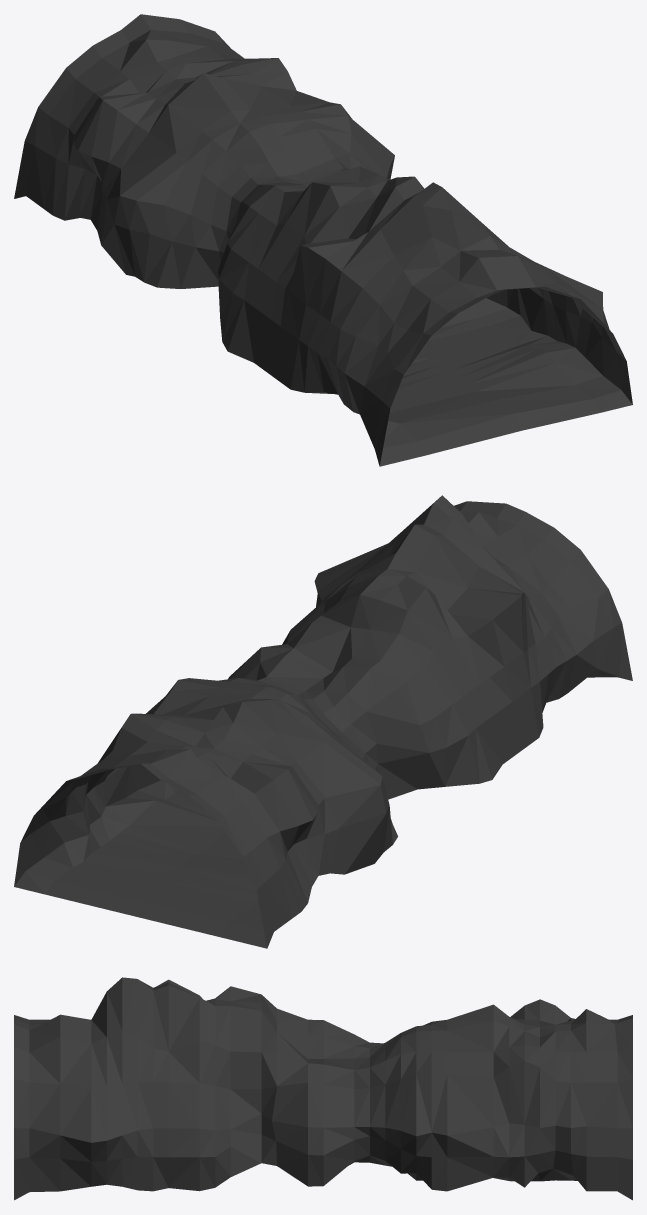
File: Cave_3_LOD_1.fbx
3 views of the same model, one above another, from view 1: azimuth 30°, elevation 25°; view 2: azimuth 150°, elevation 25°; view 3: azimuth 270°, elevation 25° (orthographic). The views are drawn at different scales.
Parts seen in each view (by area): view 1: pCylinder5; view 2: pCylinder5; view 3: pCylinder5.
Part boxes in pixels (x1,y1,x2,y2): pCylinder5: (14, 14, 632, 466); pCylinder5: (14, 495, 632, 948); pCylinder5: (14, 977, 632, 1200).
Size of the model in its own units: 8.79 by 6.15 by 20.
